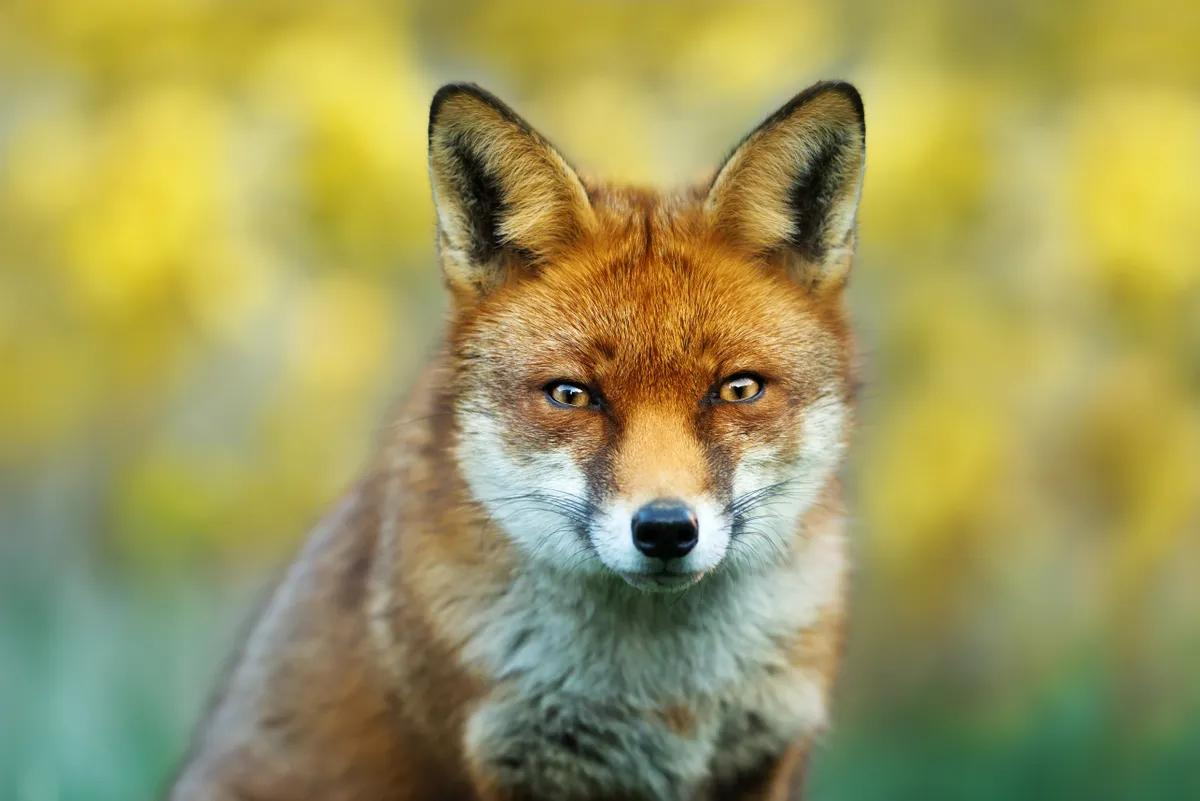fox: (310, 70, 876, 801)
